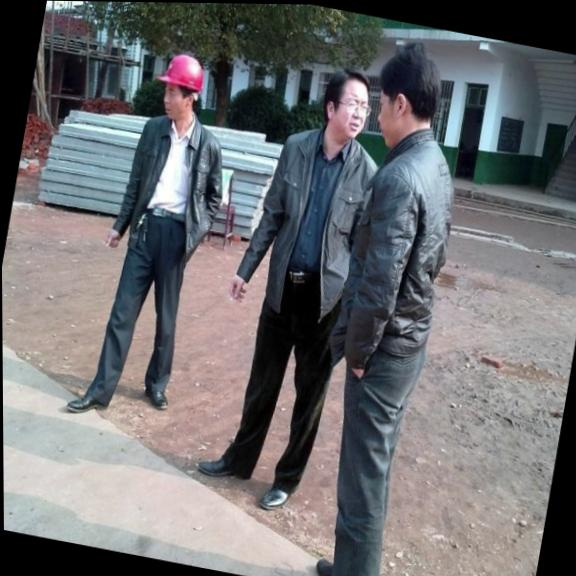no_safety_vest: (331, 119, 472, 358), (239, 119, 381, 312), (103, 107, 233, 255)
